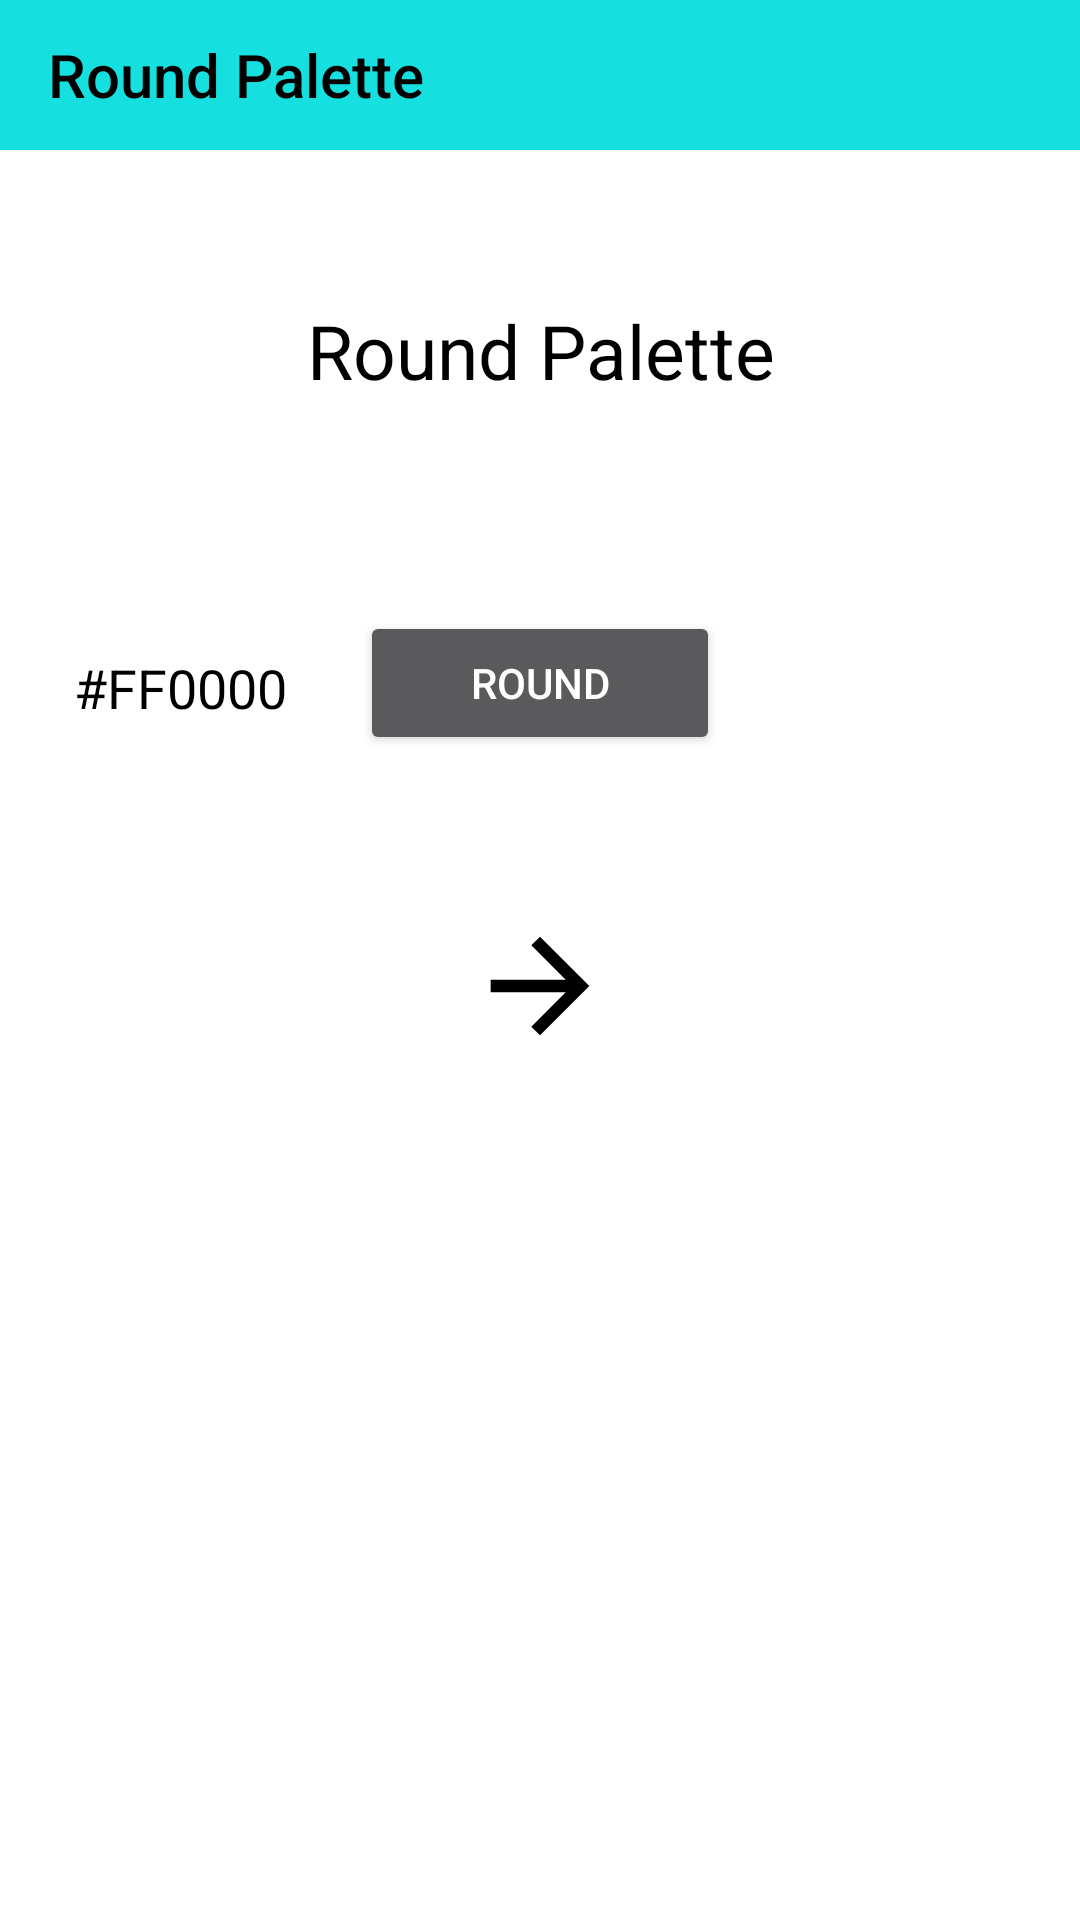

Where to tap for icons on this 1080 x 1920 app screen, as (x,y):
arrow: (539,986)
